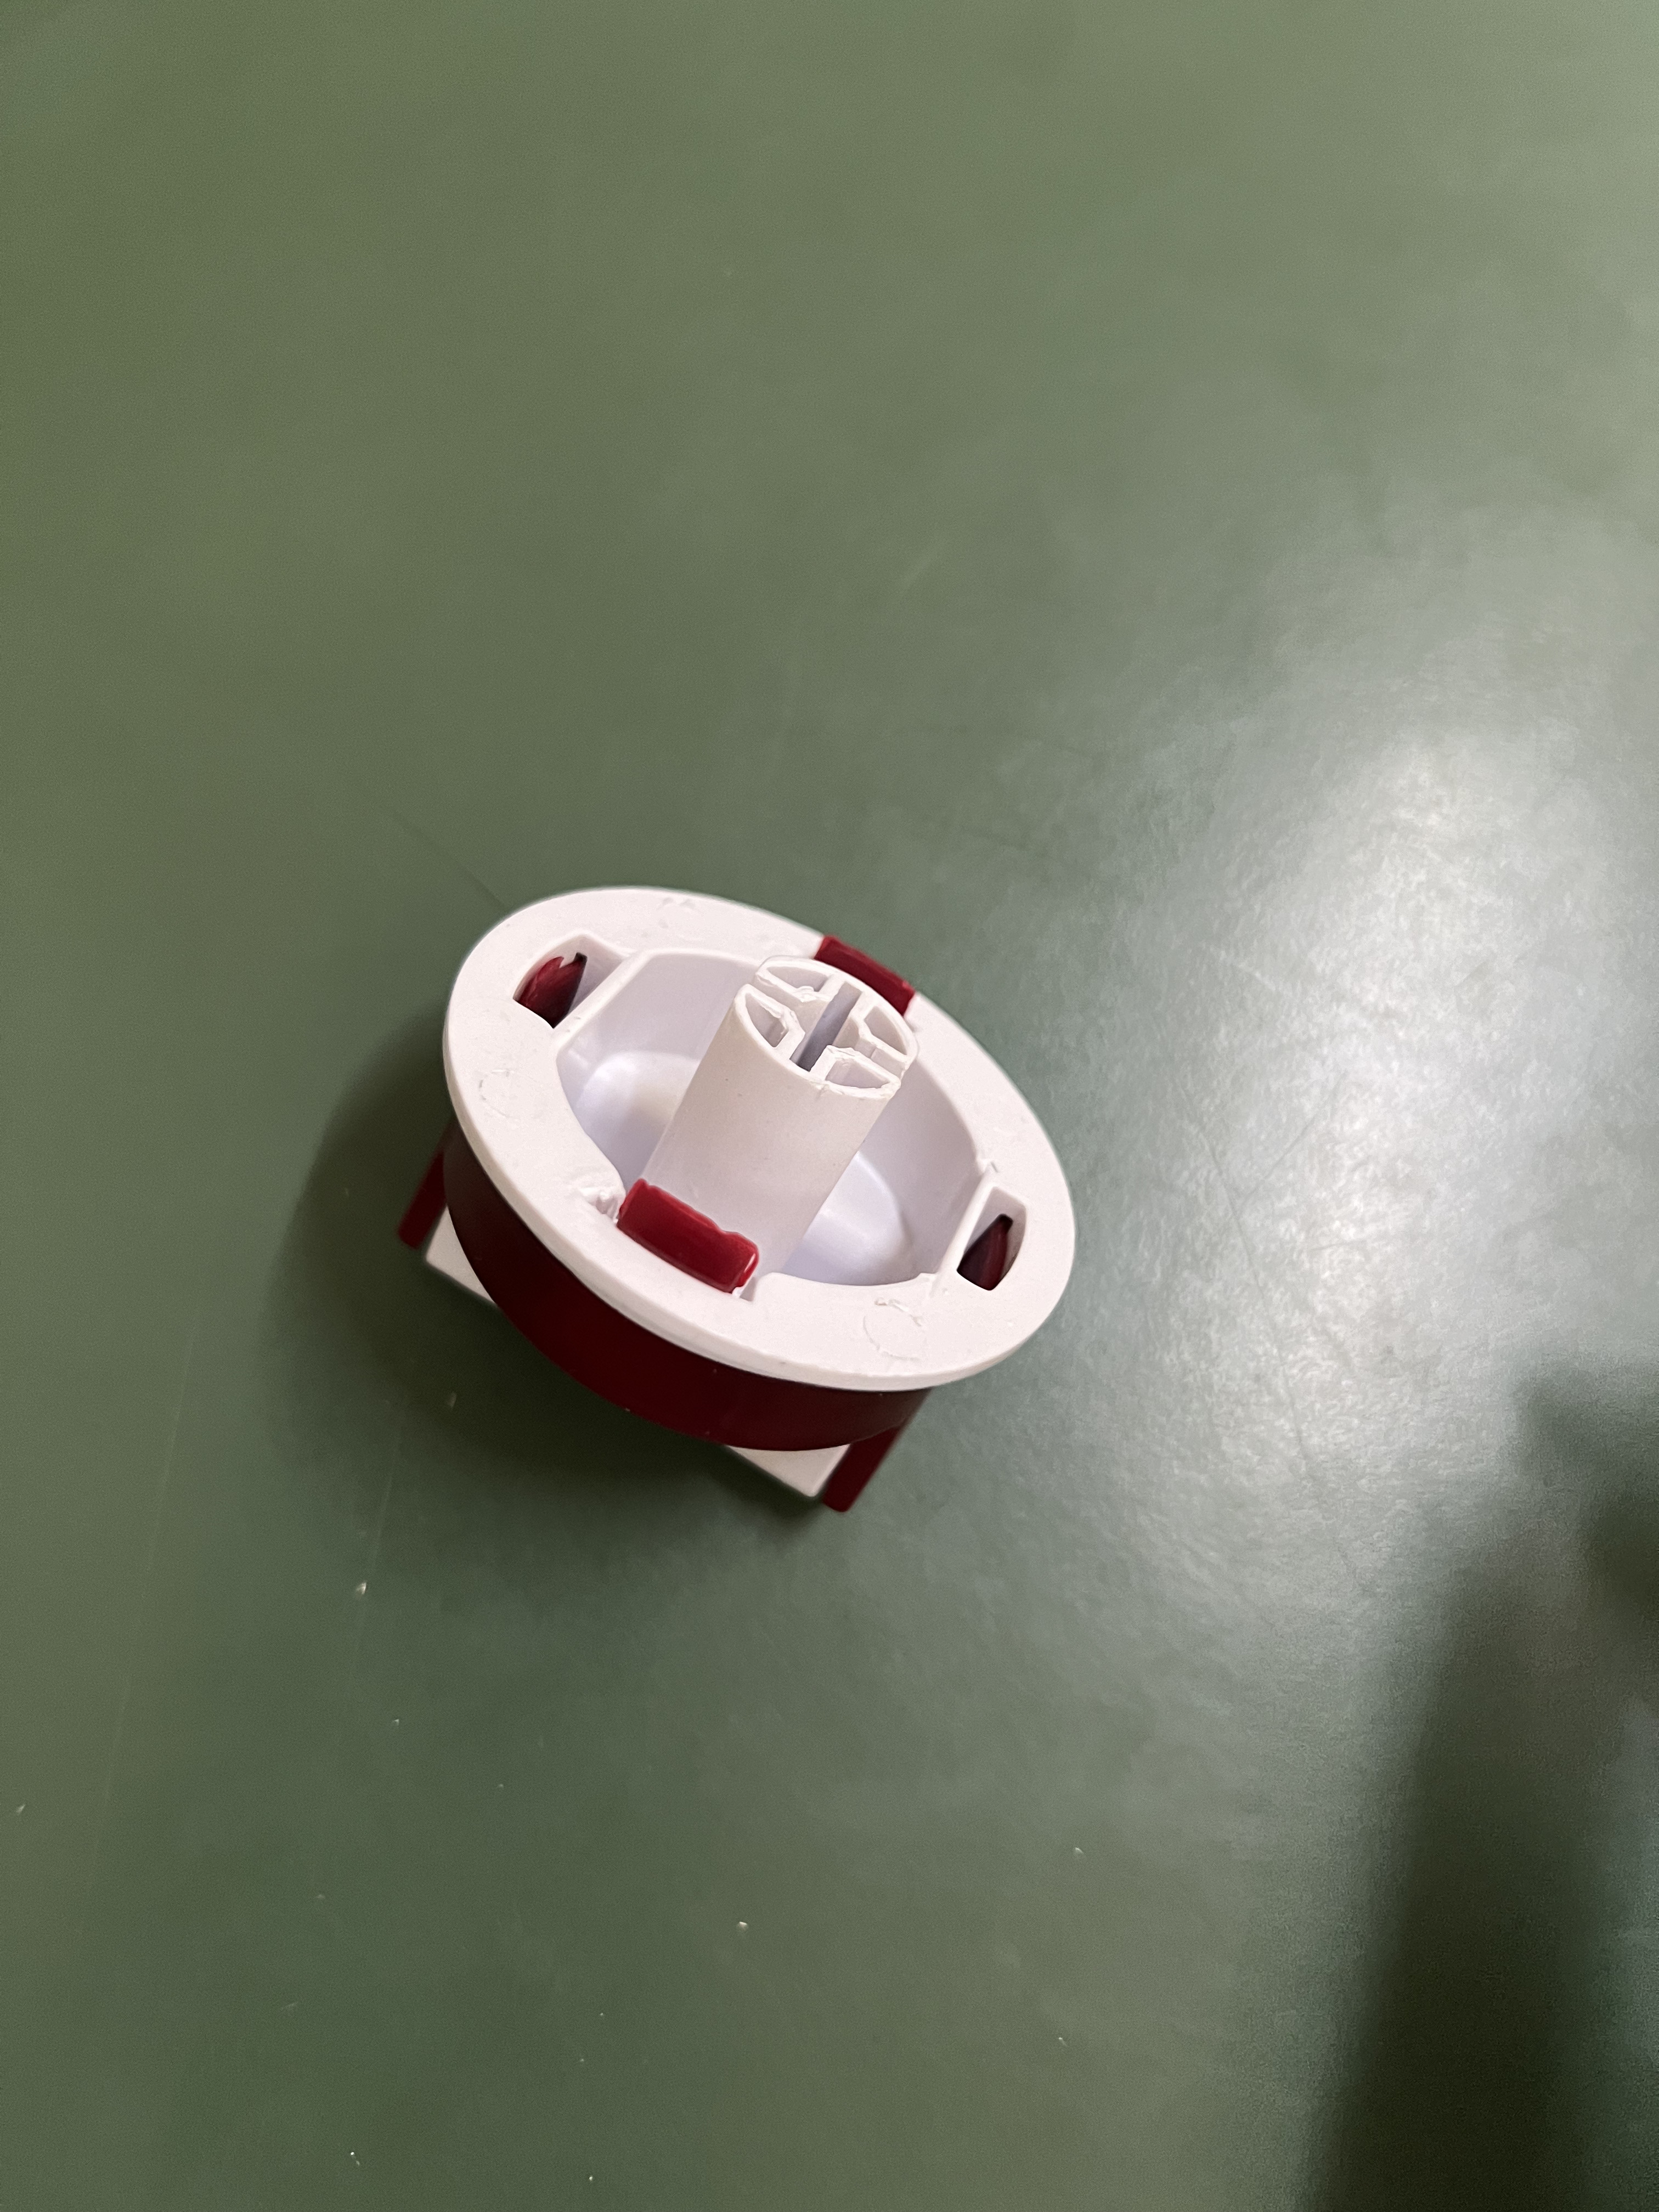regulator: (415, 867, 1103, 1595)
